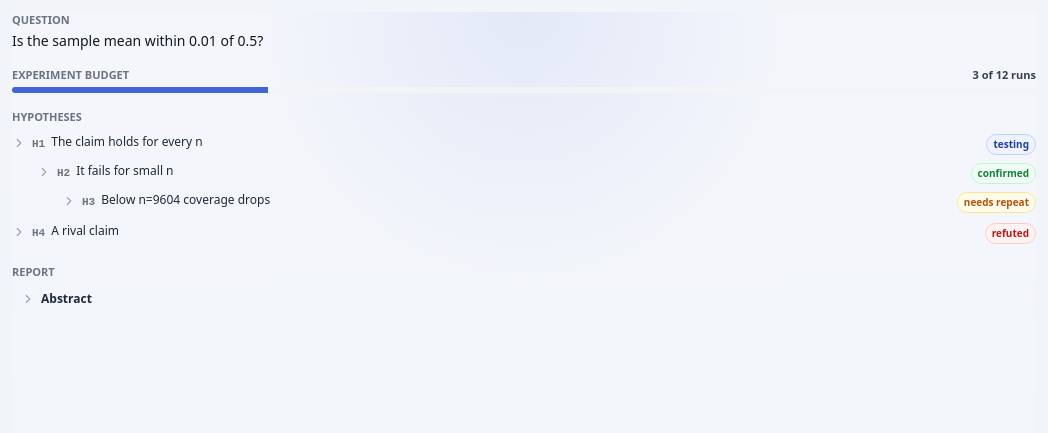
Scenario: LabView › expands a node to its experiments with seed, metrics and the latest critique
Expected: the text "E1" is not shown
Click the text "The claim holds for every n" at x=127, y=141, box left=51, top=132, right=203, bottom=150
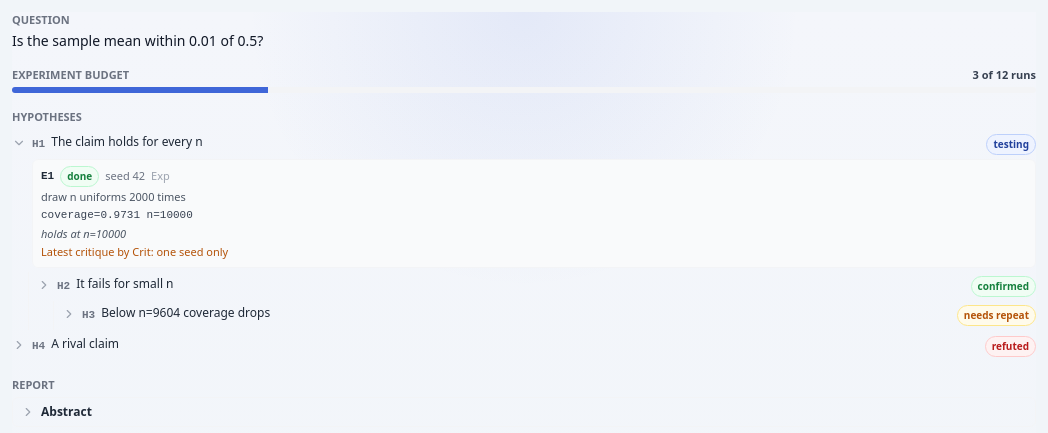
Expected: the text "E1" is shown, left=41, top=168, right=54, bottom=184
Expected: the text "seed 42" is shown, left=105, top=168, right=145, bottom=184
Expected: the text "coverage=0.9731 n=10000" is shown, left=41, top=209, right=193, bottom=221
